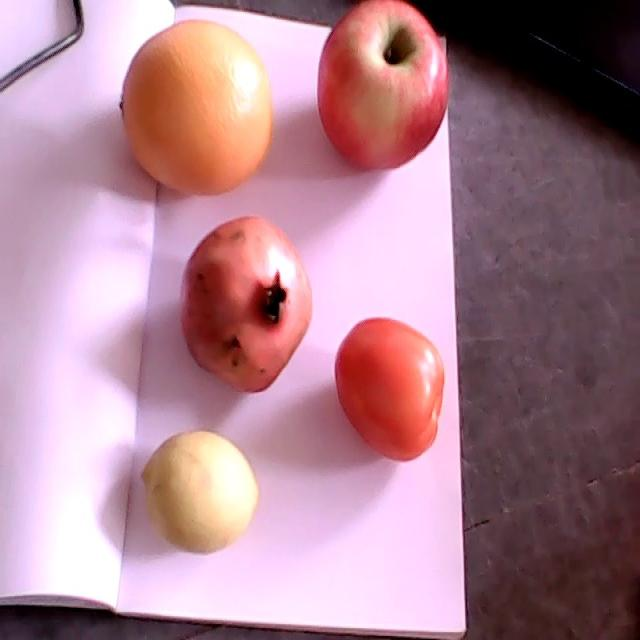apple: (317, 0, 449, 170)
lemon: (141, 429, 259, 554)
orange: (120, 19, 273, 196)
pomegranate: (181, 214, 312, 393)
tomato: (335, 318, 445, 461)
